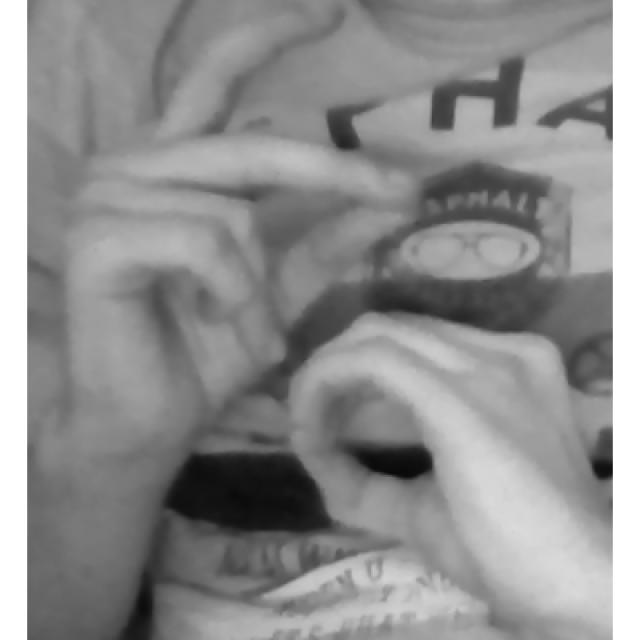O--: (64, 4, 612, 637)
